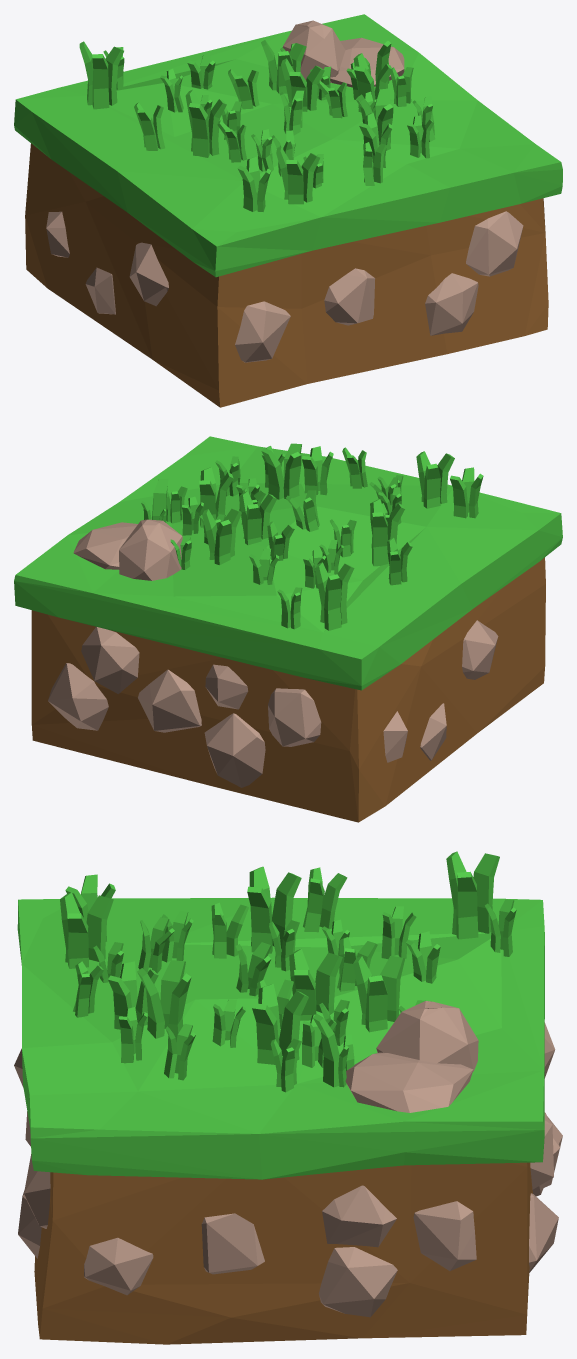
Rendered from GenericTile1.fbx.
3 views of the same model, one above another, from view 1: azimuth 30°, elevation 25°; view 2: azimuth 150°, elevation 25°; view 3: azimuth 270°, elevation 25° (orthographic). The views are drawn at different scales.
Visible parts, largest first — view 1: Ground, Grass Blades, Rocks, Top Rocks; view 2: Ground, Grass Blades, Rocks, Top Rocks; view 3: Ground, Grass Blades, Rocks, Top Rocks.
Boxes of the visible parts, bbox=[...] form: Ground: bbox=[14, 14, 562, 407]; Grass Blades: bbox=[79, 40, 435, 211]; Rocks: bbox=[46, 211, 523, 362]; Top Rocks: bbox=[282, 20, 404, 87]; Ground: bbox=[14, 436, 562, 822]; Grass Blades: bbox=[141, 443, 483, 630]; Rocks: bbox=[48, 620, 498, 787]; Top Rocks: bbox=[73, 519, 182, 580]; Ground: bbox=[17, 897, 544, 1344]; Grass Blades: bbox=[60, 851, 516, 1092]; Rocks: bbox=[14, 1022, 562, 1317]; Top Rocks: bbox=[345, 1001, 478, 1112].
Bounding box in the file's own units: 218 × 134 × 220.
